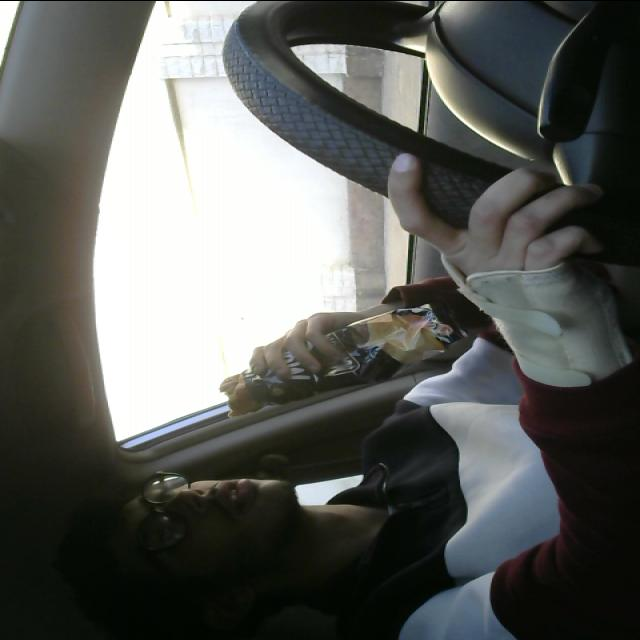eating: (213, 292, 473, 418)
